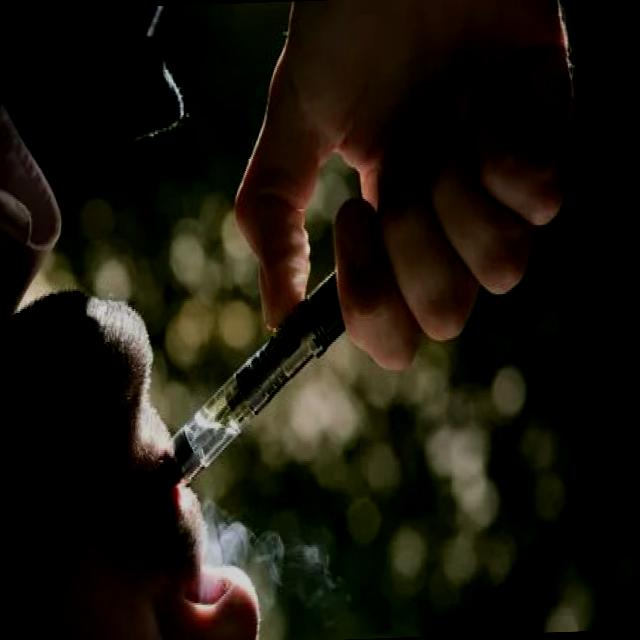smoke: (150, 241, 359, 492)
